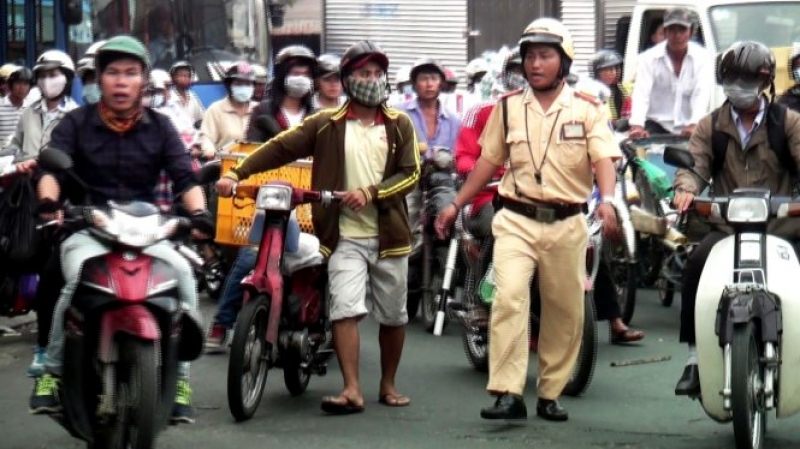police: (448, 19, 627, 425)
